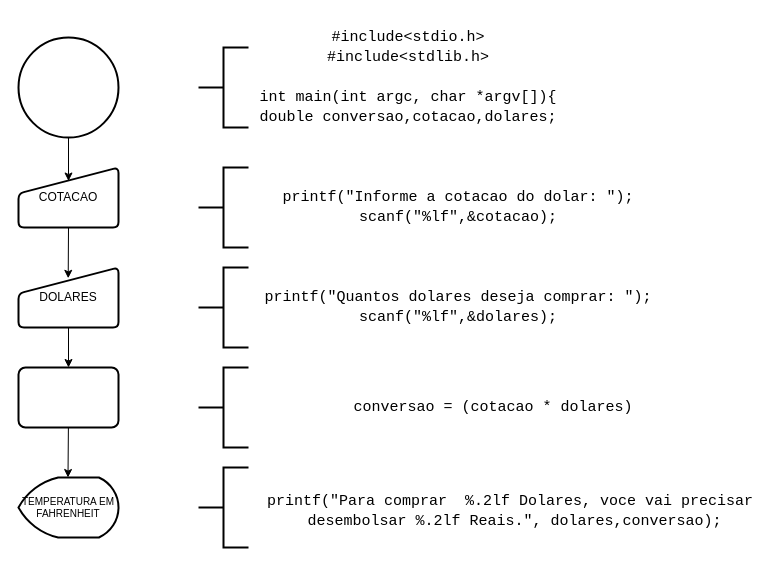
This 779x569 diagram has some shape labels left out. Each missing label, with the centre of its shape:
"CONVERSAO" goes at (68,397).
"INICIO" goes at (68,87).
